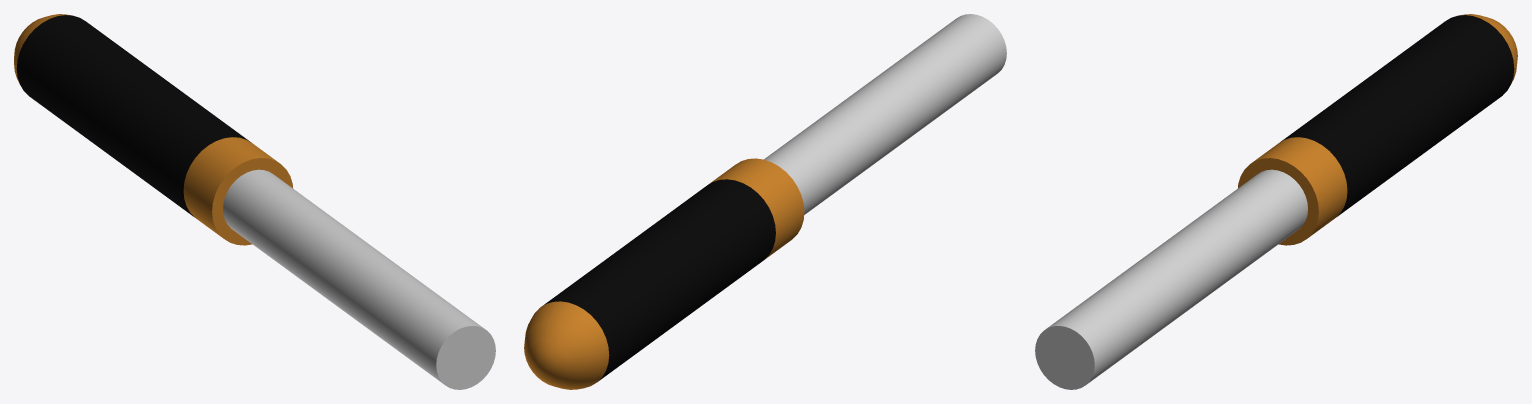
Rendered from BlastDog_Probe.obj.
3 views of the same model, side by side, from view 1: azimuth 30°, elevation 25°; view 2: azimuth 150°, elevation 25°; view 3: azimuth 330°, elevation 25° (orthographic).
Visible parts, largest first — view 1: BlastDogProbe; view 2: BlastDogProbe; view 3: BlastDogProbe.
Part boxes in pixels (x1,y1,x2,y2): BlastDogProbe: (14, 14, 495, 389); BlastDogProbe: (524, 14, 1006, 389); BlastDogProbe: (1035, 14, 1517, 389).
Bounding box in the file's own units: 0.2831 × 0.2831 × 2.61.
